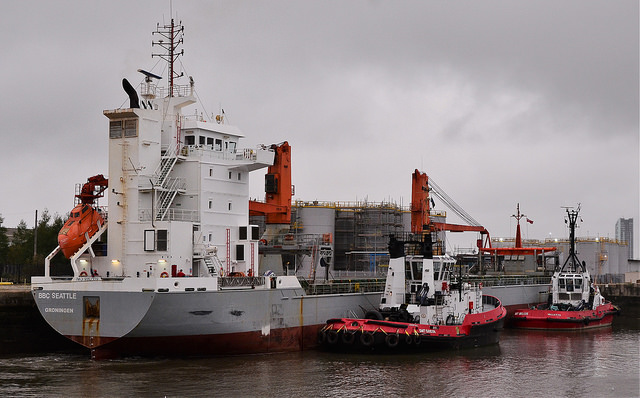tanker: (41, 165, 578, 350)
tug_boat: (316, 228, 514, 349), (517, 238, 616, 334)
